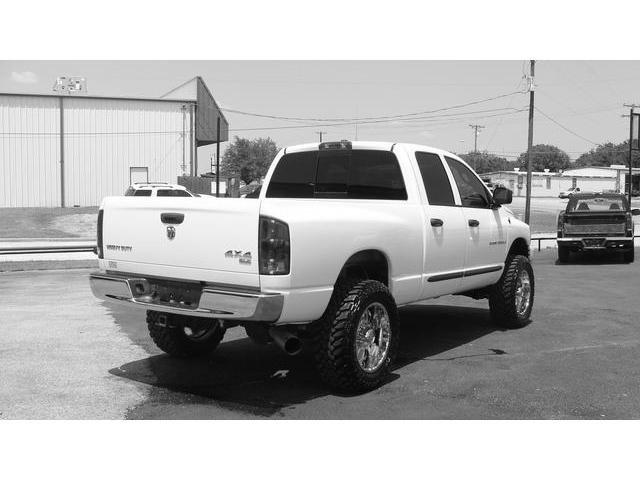car: (90, 138, 542, 385)
